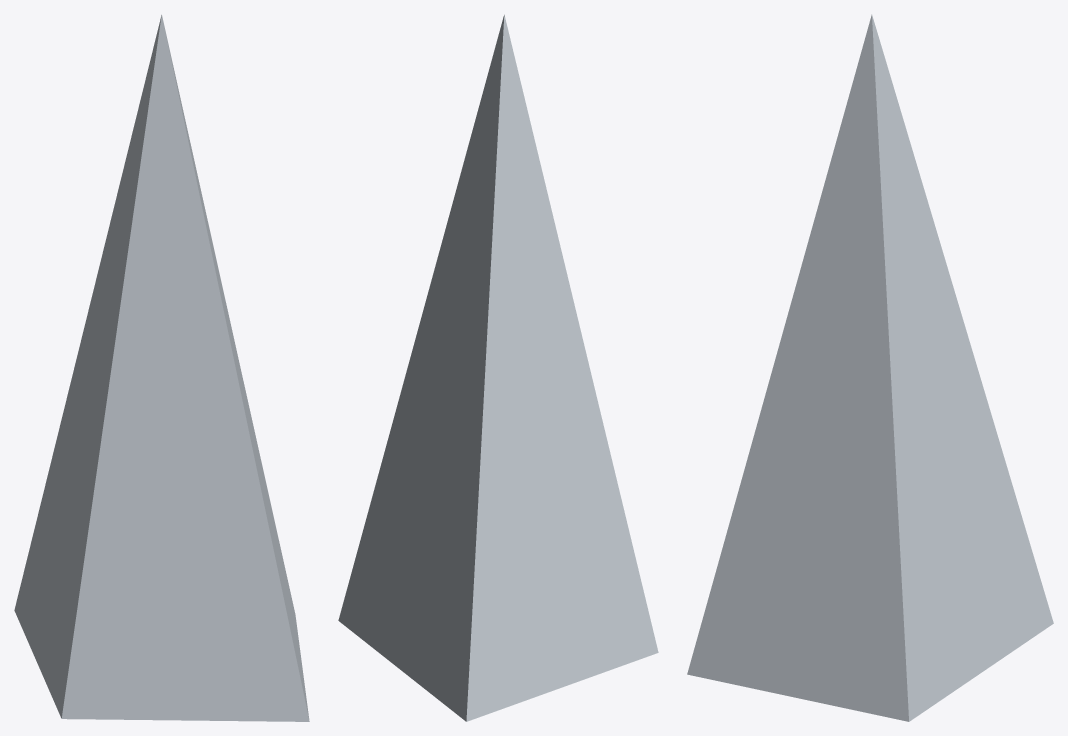
The model's file is TreeWinter4_Alt1.fbx.
3 views of the same model, side by side, from view 1: azimuth 30°, elevation 25°; view 2: azimuth 150°, elevation 25°; view 3: azimuth 270°, elevation 25° (orthographic). The views are drawn at different scales.
Visible parts, largest first — view 1: TreeWinter4_Alt1; view 2: TreeWinter4_Alt1; view 3: TreeWinter4_Alt1.
Part boxes in pixels (x1=…): TreeWinter4_Alt1: x1=14, y1=14, x2=309, y2=721; TreeWinter4_Alt1: x1=338, y1=14, x2=658, y2=721; TreeWinter4_Alt1: x1=687, y1=14, x2=1053, y2=721.
Size of the model in its own units: 1.26 by 2.78 by 1.46.
